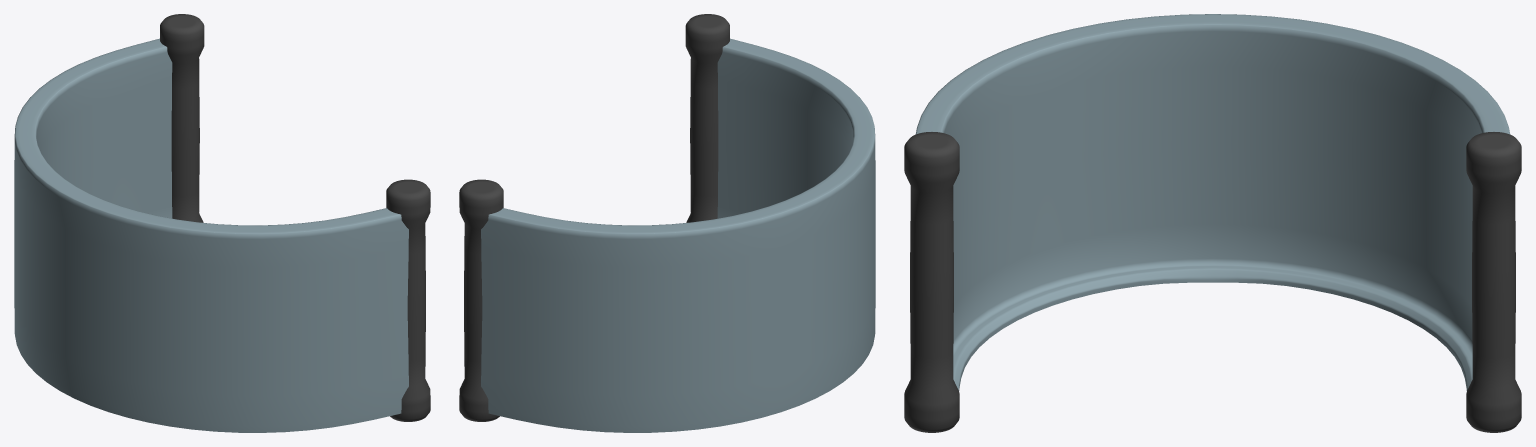
File: semi circle 2 pillars.fbx
3 views of the same model, side by side, from view 1: azimuth 30°, elevation 25°; view 2: azimuth 150°, elevation 25°; view 3: azimuth 270°, elevation 25° (orthographic). The views are drawn at different scales.
Visible parts, largest first — view 1: Semi circle 2 pillars; view 2: Semi circle 2 pillars; view 3: Semi circle 2 pillars.
Boxes of the visible parts, bbox=[...] form: Semi circle 2 pillars: bbox=[14, 14, 430, 432]; Semi circle 2 pillars: bbox=[459, 14, 875, 432]; Semi circle 2 pillars: bbox=[904, 14, 1521, 432].
Size of the model in its own units: 1092 by 881 by 1753.
